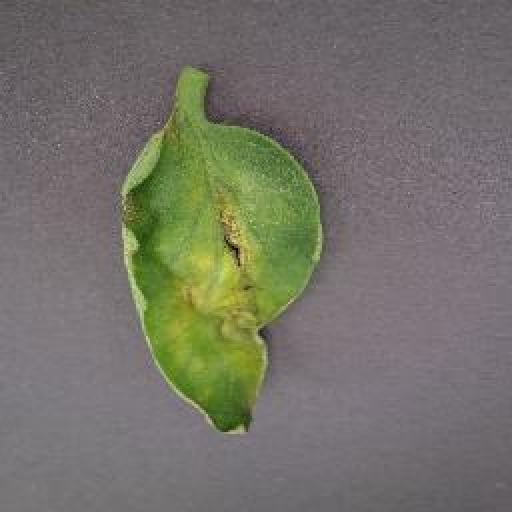disease_tomato: (116, 114, 327, 438)
